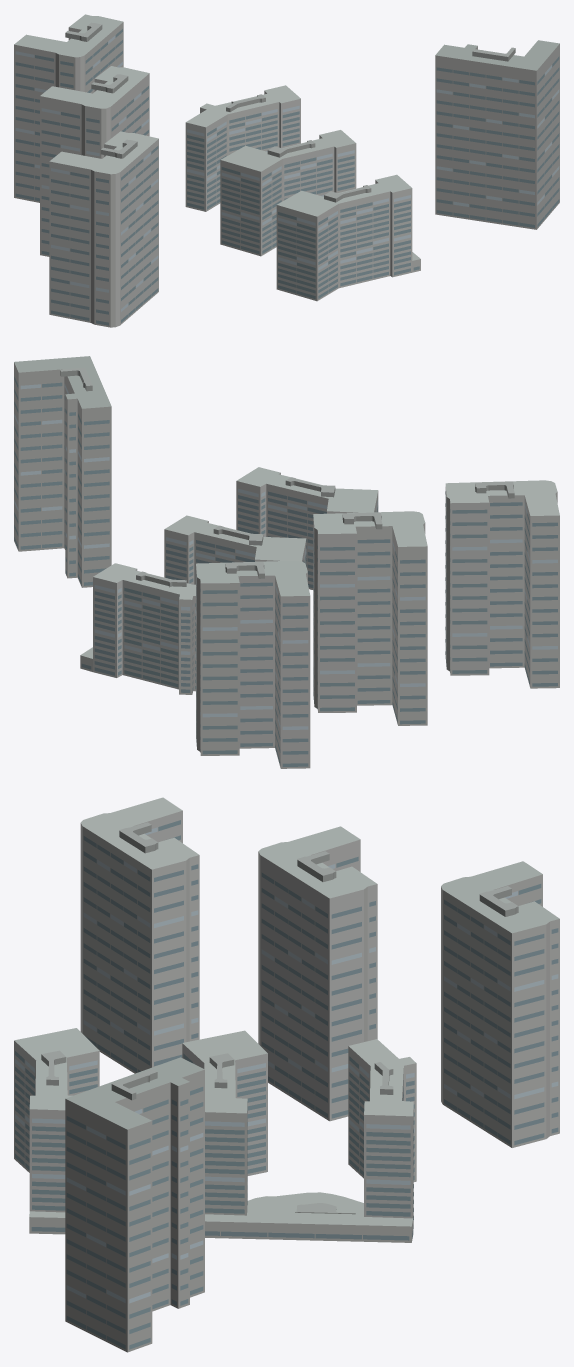
File: apt-a10028086.glb
3 views of the same model, one above another, from view 1: azimuth 30°, elevation 25°; view 2: azimuth 150°, elevation 25°; view 3: azimuth 270°, elevation 25° (orthographic). The views are drawn at different scales.
Parts seen in each view (by area): view 1: apt-a10028086; view 2: apt-a10028086; view 3: apt-a10028086.
Part boxes in pixels (box(x1,y1,x2,y2)): apt-a10028086: box(14, 14, 559, 327); apt-a10028086: box(14, 356, 559, 768); apt-a10028086: box(14, 797, 559, 1352).
Bounding box in the file's own units: 270 × 85 × 183.
